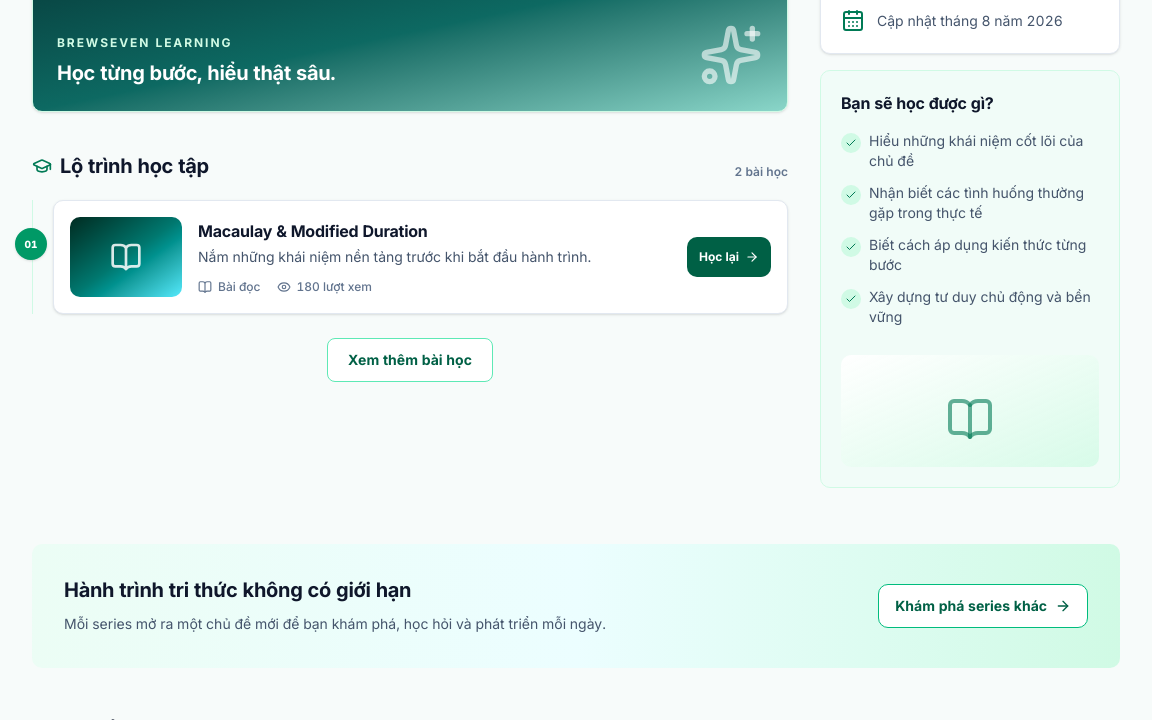
Scenario: CourseView Component › handles load more chapters without duplicate numbering
This screenshot has width=1152, height=720.
(page scrolled)
Click the button "Xem thêm bài học": x=410, y=360 [327, 338, 493, 382]
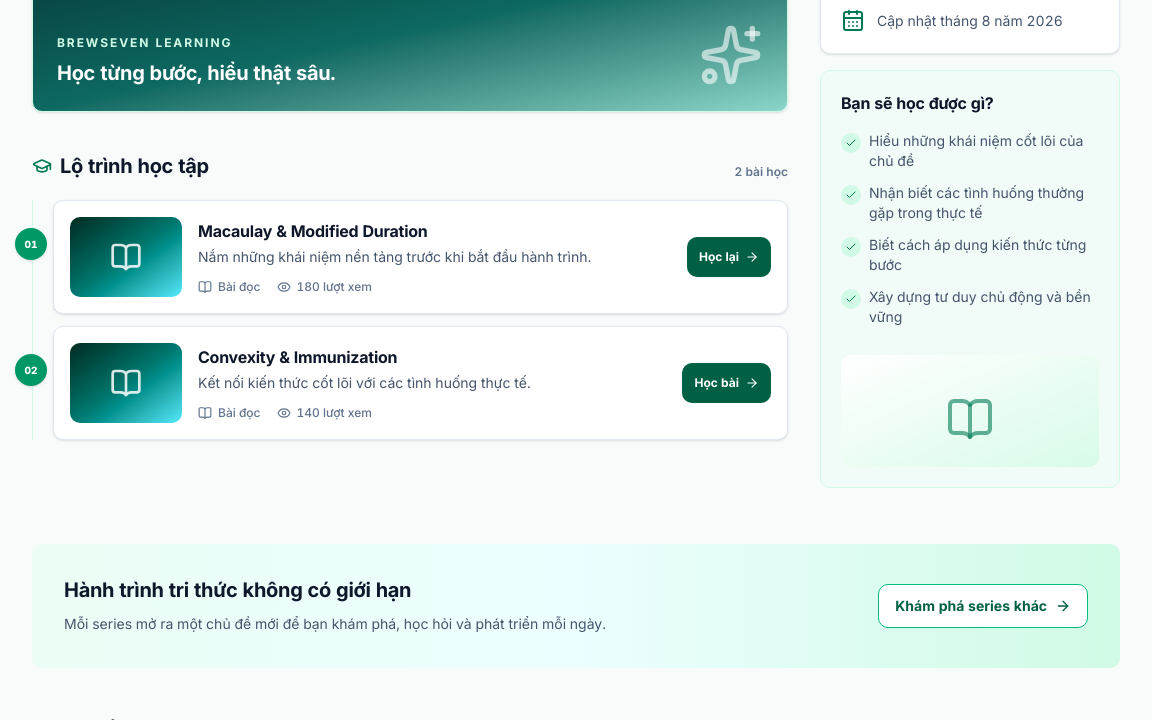
expect the heading "Convexity & Immunization" is shown: met, box [198, 347, 397, 367]
expect the text "02" is shown: met, box [15, 354, 47, 386]
expect the button "Xem thêm bài học" is gone: met
